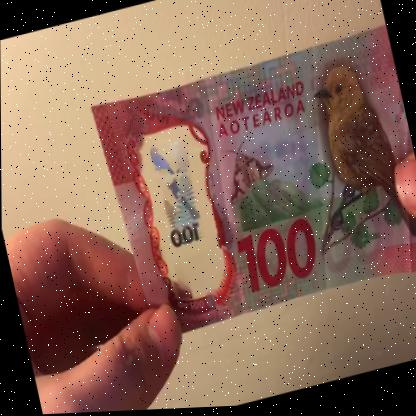100B: (141, 127, 223, 278)
